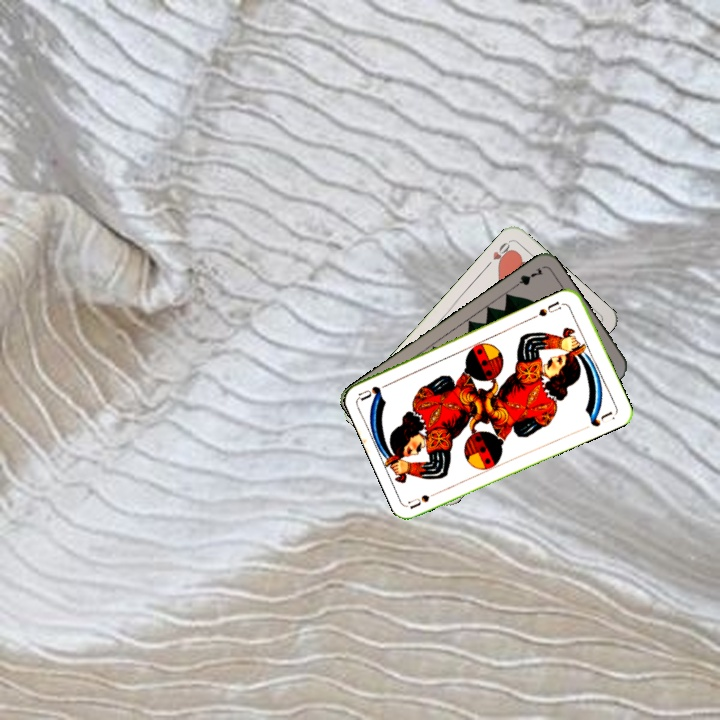G7: (508, 264, 546, 292)
HO: (482, 237, 515, 271)
SU: (405, 486, 445, 511), (535, 297, 568, 319)
